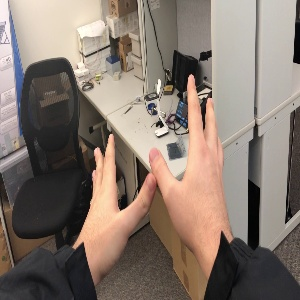hand: (149, 73, 232, 241), (82, 133, 154, 251)
